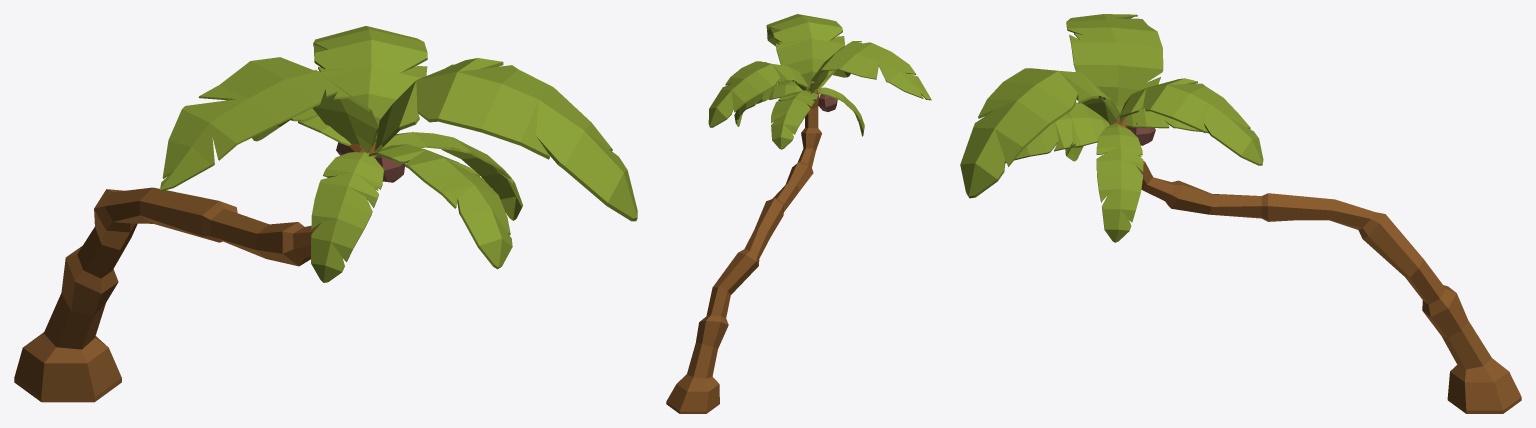
Rendered from PalmTree.003.fbx.
3 views of the same model, side by side, from view 1: azimuth 30°, elevation 25°; view 2: azimuth 150°, elevation 25°; view 3: azimuth 270°, elevation 25° (orthographic). The views are drawn at different scales.
Parts seen in each view (by area): view 1: PalmTree.003; view 2: PalmTree.003; view 3: PalmTree.003.
Part boxes in pixels (box(x1,y1,x2,y2)): PalmTree.003: box(14, 26, 637, 402); PalmTree.003: box(666, 14, 931, 413); PalmTree.003: box(960, 14, 1521, 413).
Size of the model in its own units: 2.57 by 3.19 by 4.55.
